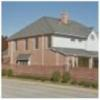chimneys: (60, 10, 70, 26)
